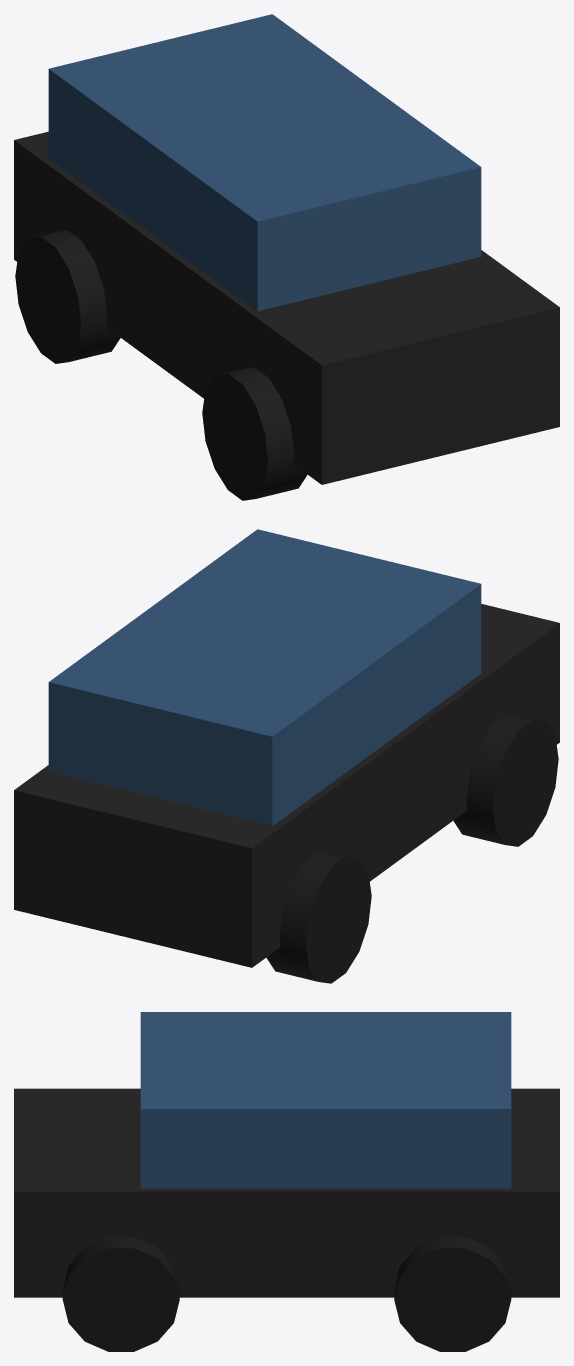
The model's file is suv_01.glb.
3 views of the same model, one above another, from view 1: azimuth 30°, elevation 25°; view 2: azimuth 150°, elevation 25°; view 3: azimuth 270°, elevation 25° (orthographic). The views are drawn at different scales.
Size of the model in its own units: 3.05 by 2.58 by 5.6.
